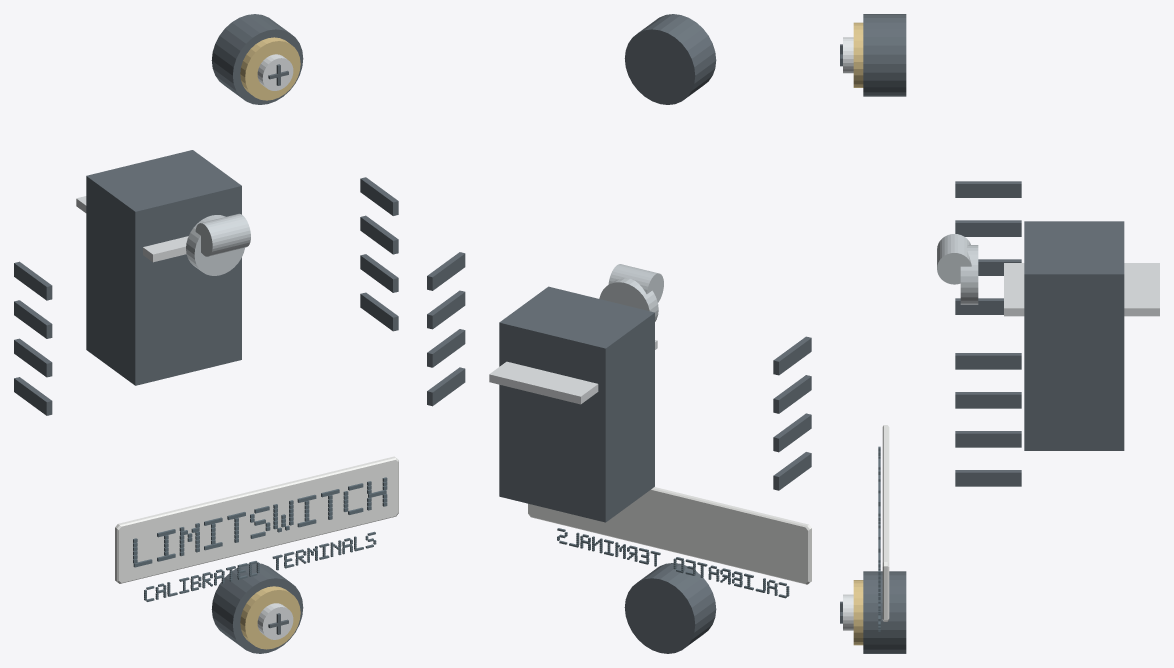
File: limitSwitch.glb
3 renders of one model, left to right at view 1: azimuth 30°, elevation 25°; view 2: azimuth 150°, elevation 25°; view 3: azimuth 270°, elevation 25°, orthographic.
Parts seen in each view (by area): view 1: limitSwitch-detailed; view 2: limitSwitch-detailed; view 3: limitSwitch-detailed.
Boxes of the visible parts, <box> form: limitSwitch-detailed: <box>14,14,398,653</box>; limitSwitch-detailed: <box>427,14,811,653</box>; limitSwitch-detailed: <box>840,14,1159,653</box>.
Size of the model in its own units: 1.57 by 2.65 by 1.21.
